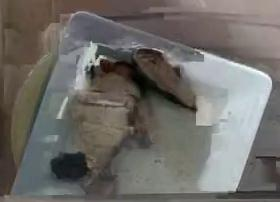pork: (69, 61, 144, 178)
